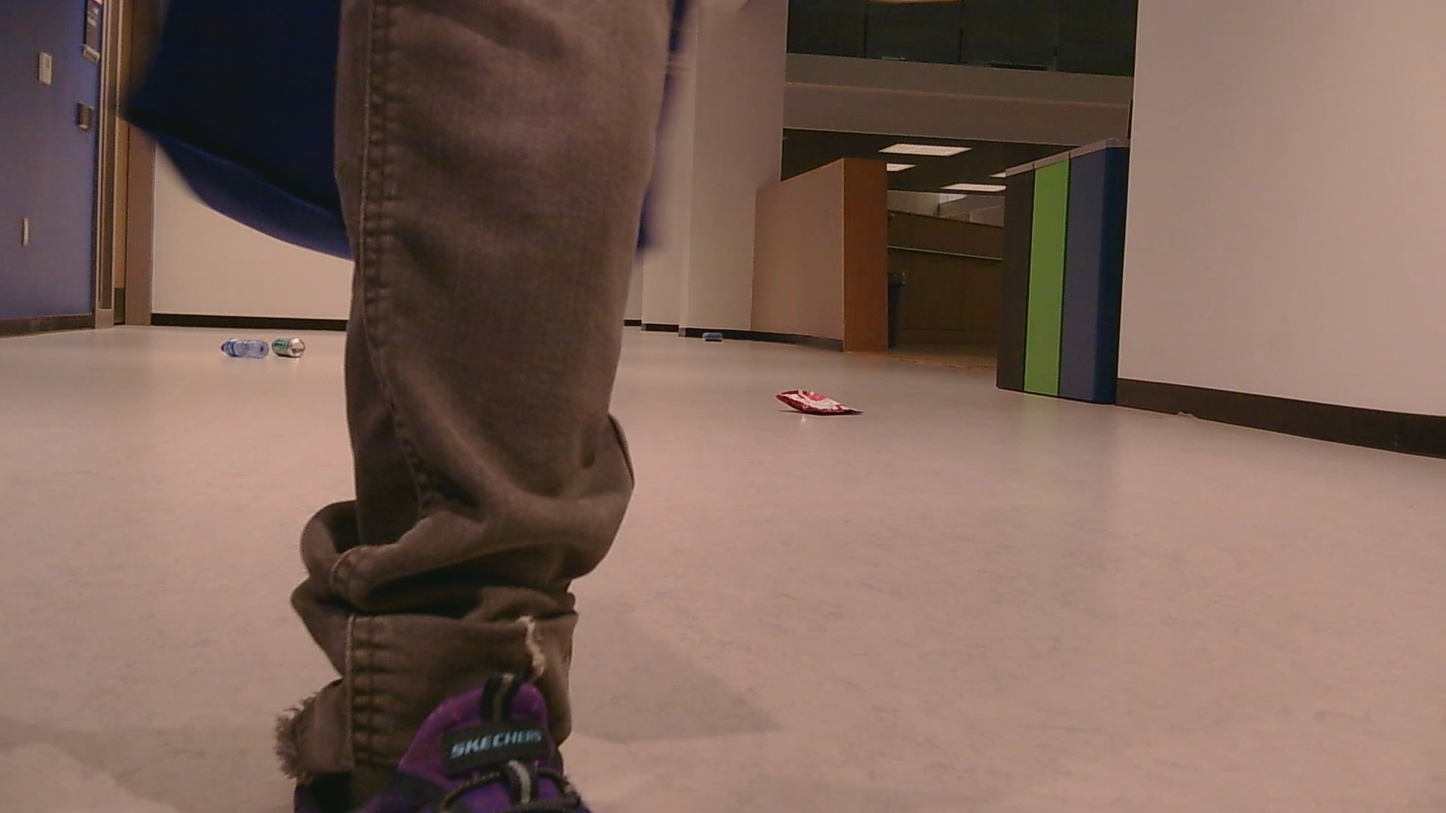carton: (764, 373, 865, 436)
